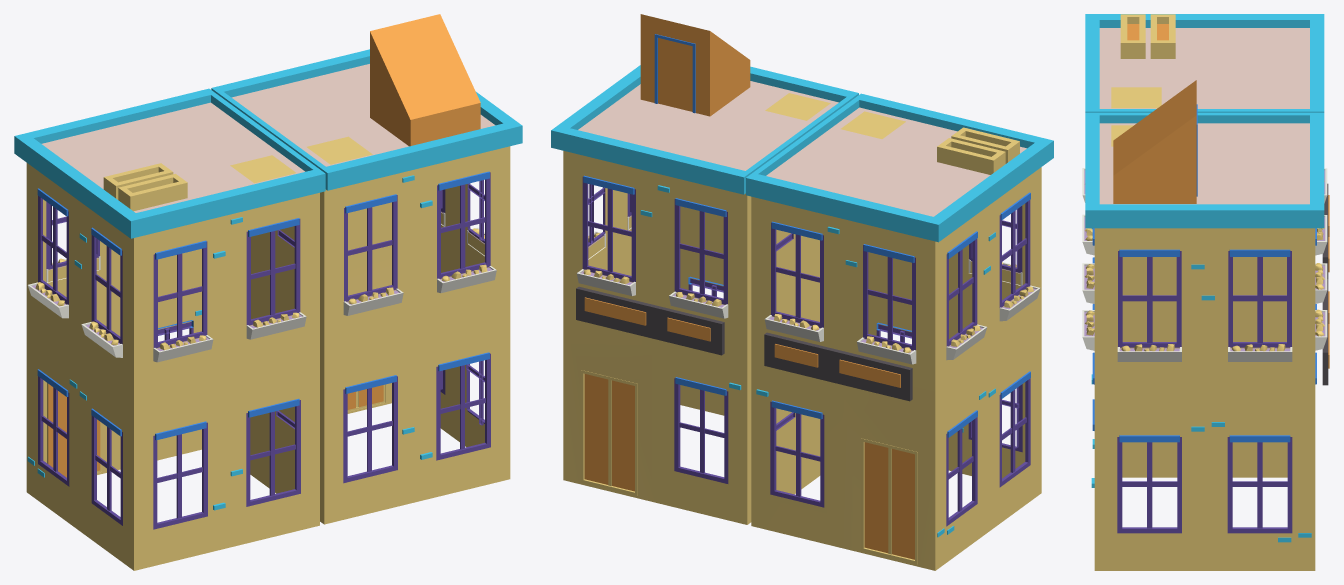
The model's file is Pink Blue Building.fbx.
3 renders of one model, left to right at view 1: azimuth 30°, elevation 25°; view 2: azimuth 150°, elevation 25°; view 3: azimuth 270°, elevation 25°, orthographic. The views are drawn at different scales.
Parts seen in each view (by area): view 1: Pink Blue Building; view 2: Pink Blue Building; view 3: Pink Blue Building.
Part boxes in pixels (x1,y1,x2,y2): Pink Blue Building: (14,14,522,570); Pink Blue Building: (551,14,1053,570); Pink Blue Building: (1082,14,1329,570).
Bounding box in the file's own units: 1141 × 1192 × 599.
